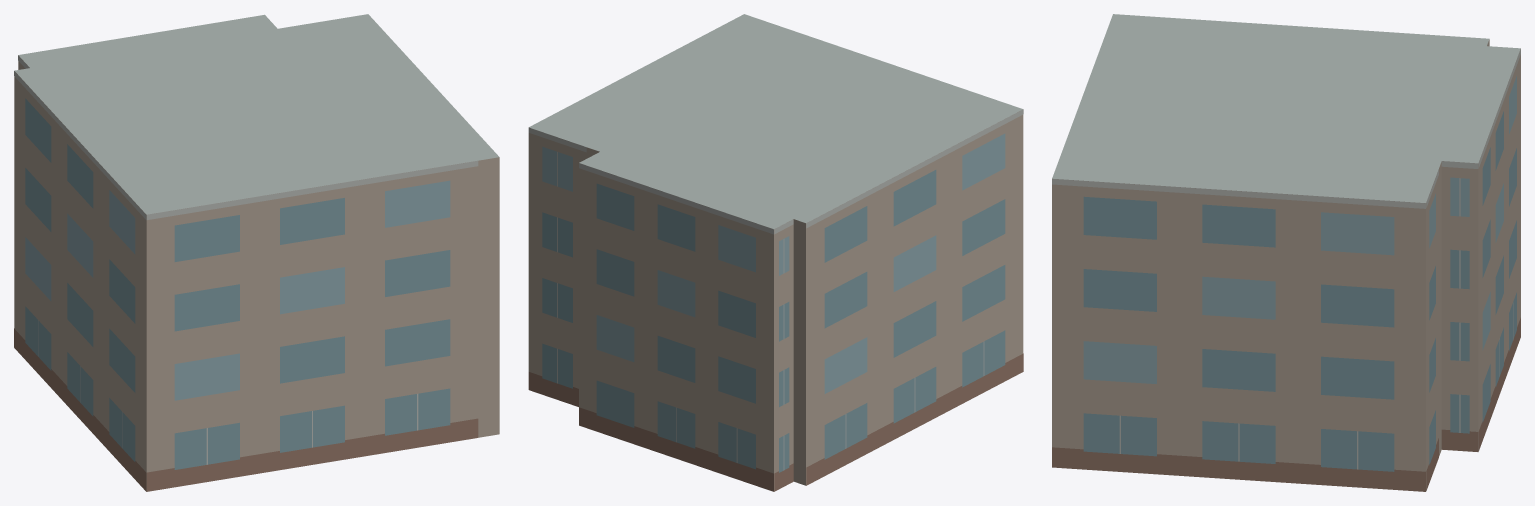
File: survey-upis-32940111.glb
3 renders of one model, left to right at view 1: azimuth 30°, elevation 25°; view 2: azimuth 150°, elevation 25°; view 3: azimuth 270°, elevation 25°, orthographic. The views are drawn at different scales.
Parts seen in each view (by area): view 1: survey-upis-32940111.tmp; view 2: survey-upis-32940111.tmp; view 3: survey-upis-32940111.tmp.
Boxes of the visible parts, box(x1,y1,x2,y2) form: survey-upis-32940111.tmp: box(14, 14, 499, 491); survey-upis-32940111.tmp: box(528, 14, 1023, 491); survey-upis-32940111.tmp: box(1052, 14, 1520, 491).
Size of the model in its own units: 17.15 by 12.2 by 17.96.
